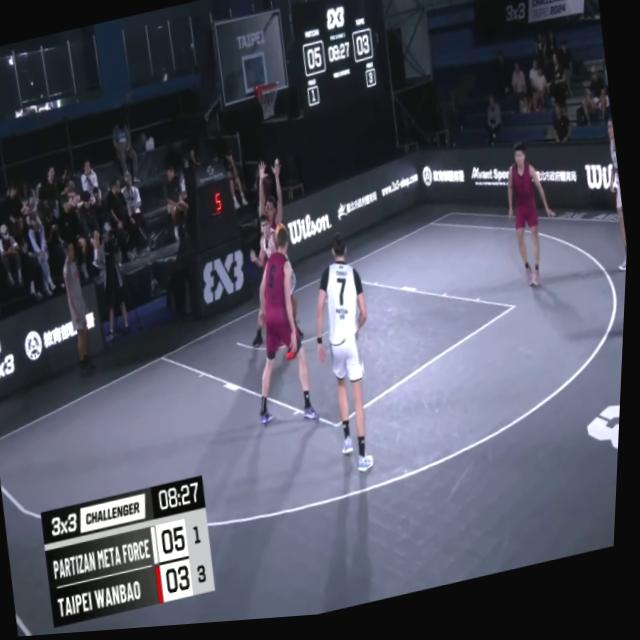ball: (272, 222, 294, 259)
hoop: (251, 79, 289, 129)
player: (291, 223, 403, 488), (235, 215, 334, 440), (222, 157, 315, 358), (235, 211, 319, 363), (498, 143, 571, 311), (590, 123, 634, 296)
